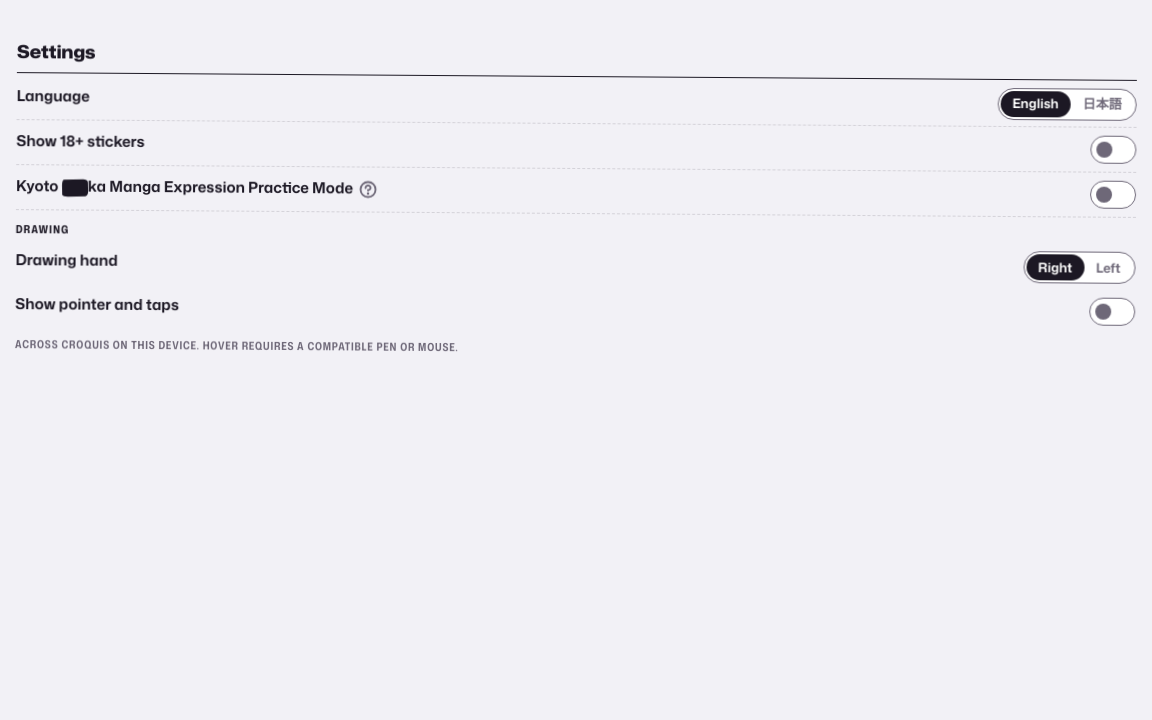
the Settings note's language › switches even when this phone can't keep the choice, and says so in the new language
Click the radio button labelled "日本語" at (1102, 104), box [1071, 91, 1134, 118]
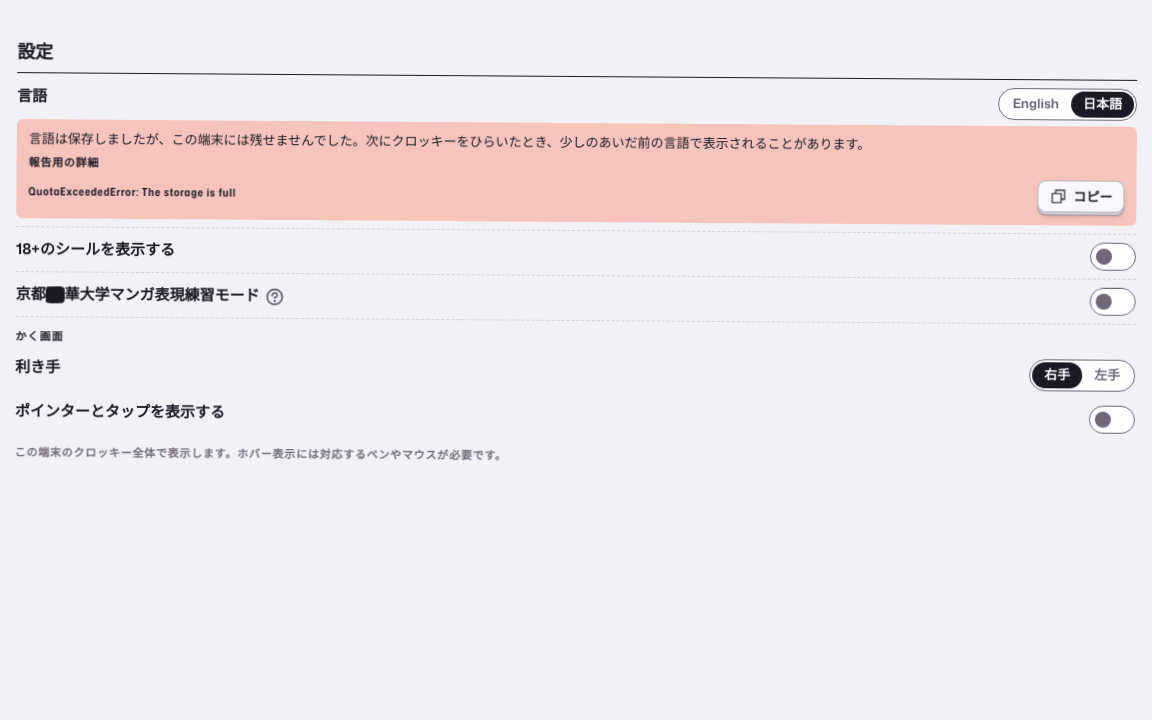
Check: the message "言語は保存しましたが、この端末には残せませんでした。次にクロッキーをひらいたとき、少しのあいだ前の言語で表示されることがあります。" is shown, box [29, 129, 870, 153]
Check: the text "The storage is full" is shown, box [28, 183, 236, 200]
